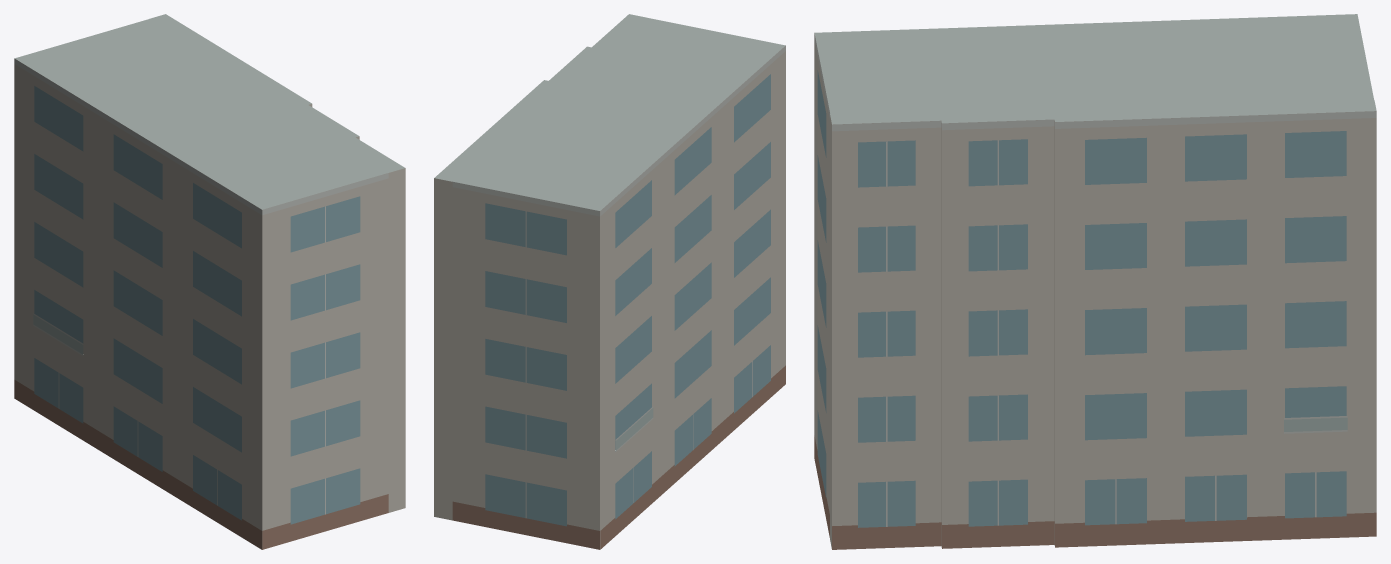
File: survey-upis-32620140.glb
3 renders of one model, left to right at view 1: azimuth 30°, elevation 25°; view 2: azimuth 150°, elevation 25°; view 3: azimuth 270°, elevation 25°, orthographic. The views are drawn at different scales.
Visible parts, largest first — view 1: survey-upis-32620140.tmp; view 2: survey-upis-32620140.tmp; view 3: survey-upis-32620140.tmp.
Boxes of the visible parts, x1,y1,x2,y2 form: survey-upis-32620140.tmp: (14, 14, 405, 549); survey-upis-32620140.tmp: (434, 14, 785, 549); survey-upis-32620140.tmp: (814, 14, 1376, 549).
Size of the model in its own units: 8.36 by 15 by 17.97.
